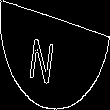N_N: (40, 26, 70, 84)
